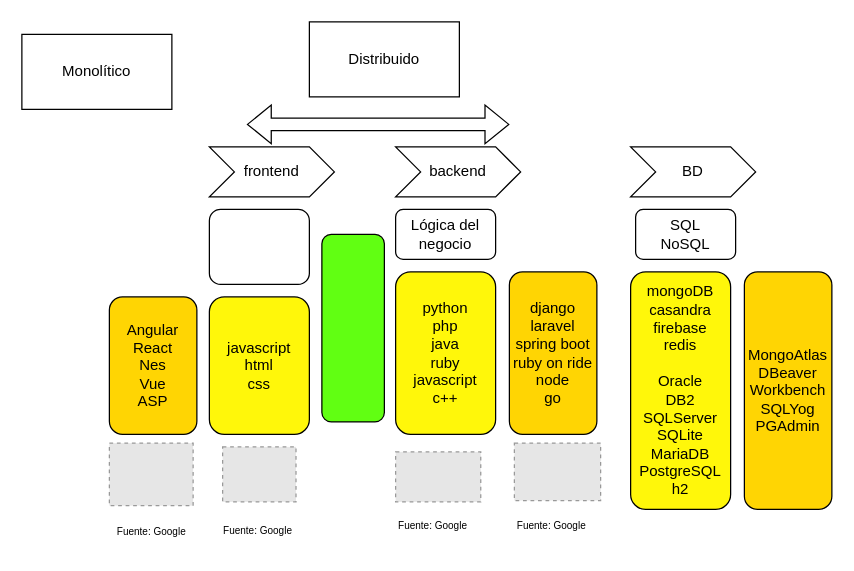
The diagram is 854 pixels wide and 571 high, and some of its shapes have lost their labels. Grey dashed boxes stand in for pictures. The box of each missing label's shape, as (x1, y1, x2, y2) in pixels:
ajax jquey axios fetch retrofish: (321, 233, 384, 422)
Visualización web móvil desktop: (208, 208, 309, 284)
